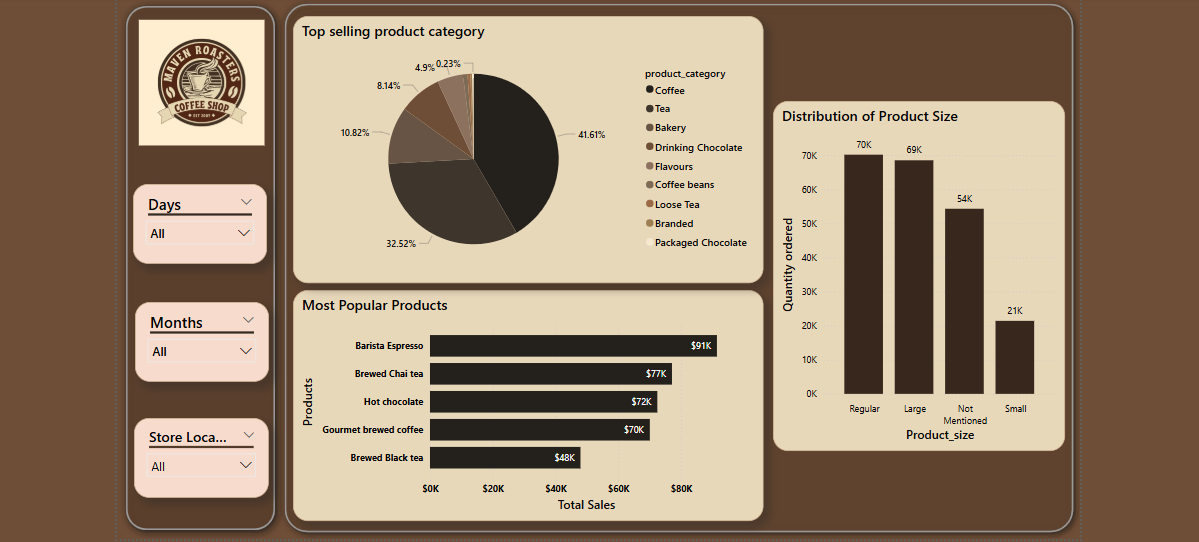

The dashboard page shown, as its layout file describes it:
{"tool":"powerbi","page":{"name":"Page 2","canvas":[1280,720],"ordinal":1},"visuals":[{"type":"shape","box":[214,0,1066,720.4],"z":0},{"type":"clusteredBarChart","title":"Most Popular Products","fields":{"Category":["Transactions.product_type"],"Y":["Sum(Transactions.total_price)"]},"box":[233.9,389.4,624.7,307],"z":2000},{"type":"pieChart","title":"Top selling product category","fields":{"Category":["Transactions.product_category"],"Y":["Sum(Transactions.transaction_qty)"]},"box":[233.9,25.3,624.7,354.9],"z":4000},{"type":"shape","box":[0,0,222,720.4],"z":5000},{"type":"clusteredColumnChart","title":"Distribution of Product Size","fields":{"Category":["Transactions.product_size"],"Y":["Sum(Transactions.transaction_qty)"]},"box":[871.9,138.2,388.1,465.2],"z":6001},{"type":"slicer","fields":{"Values":["Transactions.store_location"]},"box":[22.6,559.6,179.4,106.3],"z":6002,"group":"g1"},{"type":"slicer","fields":{"Values":["Transactions.month_name"]},"box":[24,405.5,178.1,106.3],"z":10000,"group":"g1"},{"type":"slicer","fields":{"Values":["Transactions.day_name"]},"box":[21.3,248.7,178.1,106.3],"z":11000,"group":"g1"},{"type":"image","box":[8,25.3,208.7,177.5],"z":12000,"group":"g1"},{"type":"group","id":"g1","title":"Group 1","box":[8,25.3,208.7,640.7],"z":12001}]}

Visuals, with their boxes on the page's 1280x720 design canvas (x1, y1, x2, y2). These are canvas units, not pixel positions in the 1199x542 screenshot, which may show the page scaled, cropped or inside an application window:
shape: (214, 0, 1280, 720)
"Most Popular Products" clusteredBarChart: (234, 389, 859, 696)
"Top selling product category" pieChart: (234, 25, 859, 380)
shape: (0, 0, 222, 720)
"Distribution of Product Size" clusteredColumnChart: (872, 138, 1260, 603)
slicer - Transactions.store_location: (23, 560, 202, 666)
slicer - Transactions.month_name: (24, 406, 202, 512)
slicer - Transactions.day_name: (21, 249, 199, 355)
image: (8, 25, 217, 203)
"Group 1" group: (8, 25, 217, 666)
